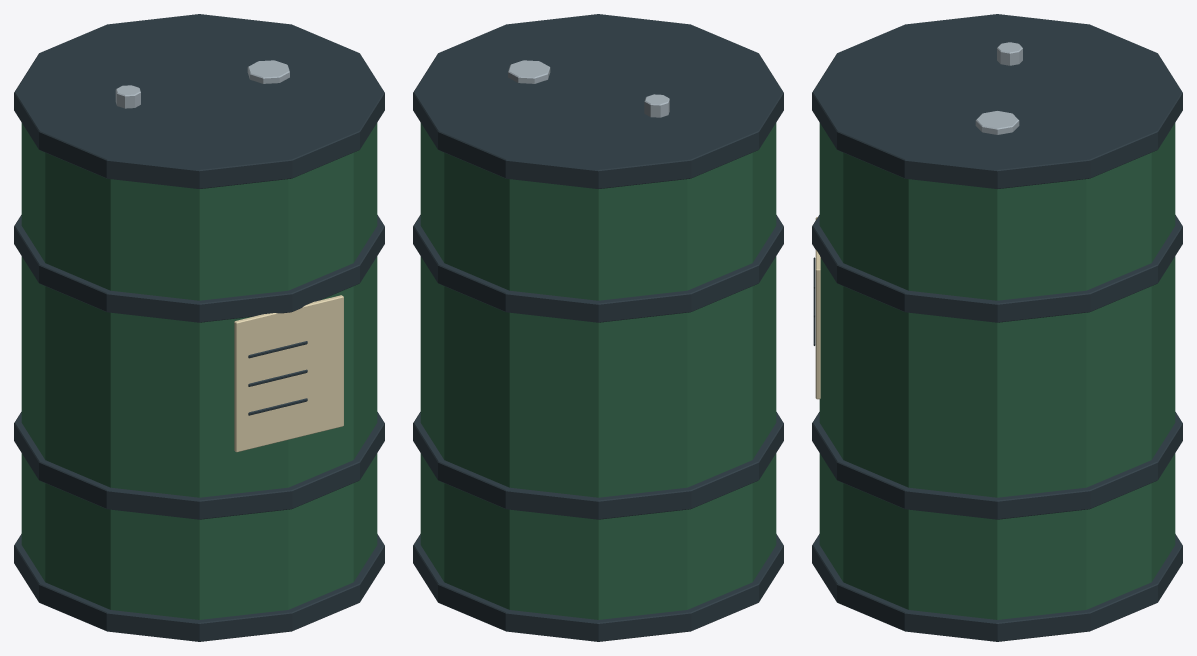
The model's file is b14_steel_shipping_drum.glb.
3 views of the same model, side by side, from view 1: azimuth 30°, elevation 25°; view 2: azimuth 150°, elevation 25°; view 3: azimuth 270°, elevation 25° (orthographic).
Parts seen in each view (by area): view 1: b14_steel_shipping_drum; view 2: b14_steel_shipping_drum; view 3: b14_steel_shipping_drum.
Part boxes in pixels (x1,y1,x2,y2): b14_steel_shipping_drum: [14, 14, 384, 641]; b14_steel_shipping_drum: [413, 14, 783, 641]; b14_steel_shipping_drum: [812, 14, 1182, 641].
Size of the model in its own units: 0.594 by 0.86 by 0.594.
